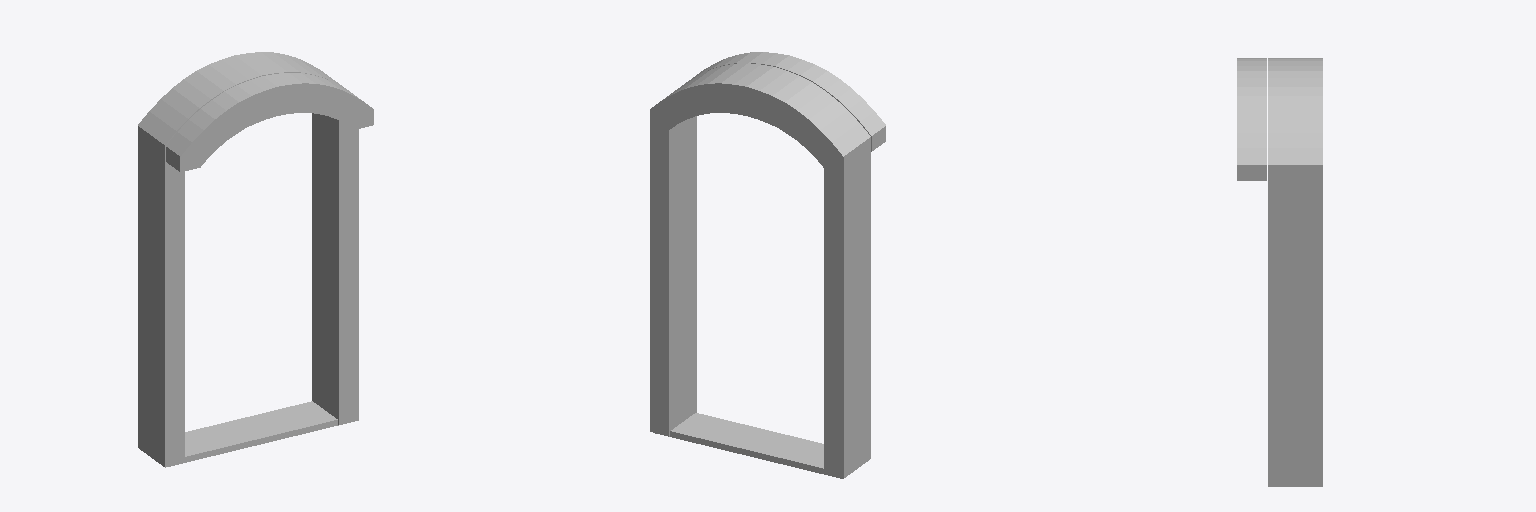
File: DoorFrame_Round_WoodDark.obj
3 views of the same model, side by side, from view 1: azimuth 30°, elevation 25°; view 2: azimuth 150°, elevation 25°; view 3: azimuth 270°, elevation 25° (orthographic).
Parts seen in each view (by area): view 1: DoorFrame_Round_WoodDark; view 2: DoorFrame_Round_WoodDark; view 3: DoorFrame_Round_WoodDark.
Boxes of the visible parts, x1=… form: DoorFrame_Round_WoodDark: x1=138, y1=52, x2=373, y2=467; DoorFrame_Round_WoodDark: x1=650, y1=52, x2=885, y2=478; DoorFrame_Round_WoodDark: x1=1237, y1=58, x2=1322, y2=486.
Bounding box in the file's own units: 1.41 × 2.56 × 0.539.